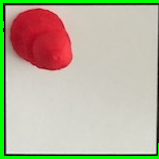Red Pawn: (9, 7, 76, 75)
